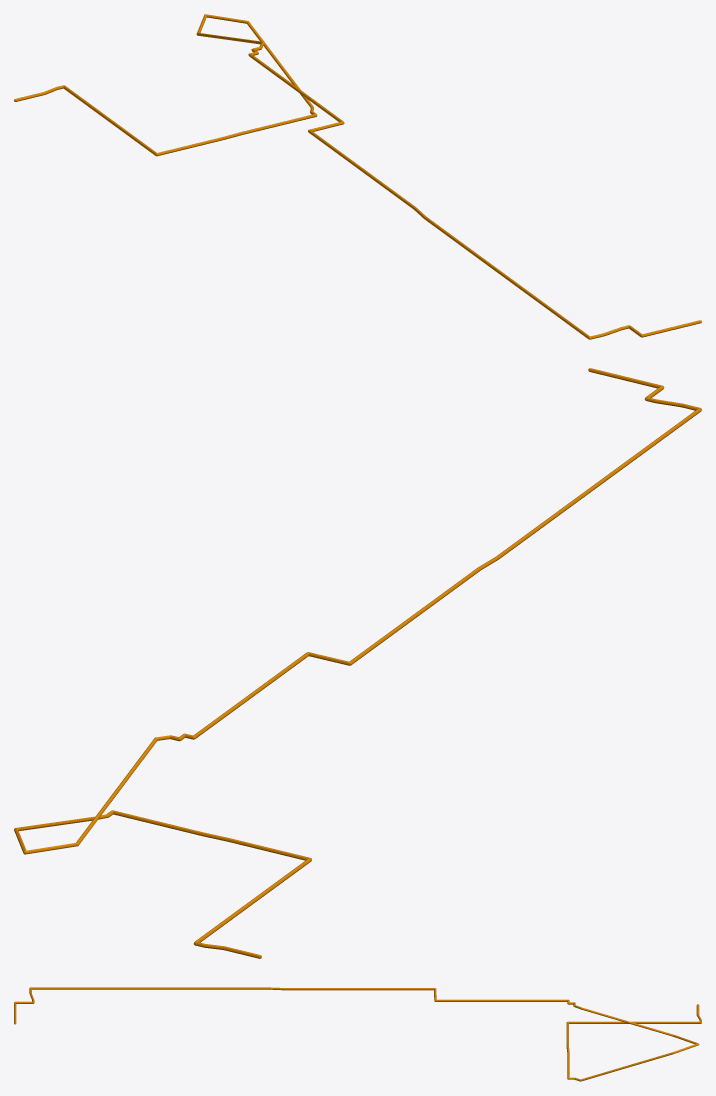
The picture shows the model from 3 angles, top to bottom: view 1: azimuth 30°, elevation 25°; view 2: azimuth 150°, elevation 25°; view 3: azimuth 270°, elevation 25°; orthographic projection. The views are drawn at different scales.
Bounding box in the file's own units: 1492 × 520 × 5687.
